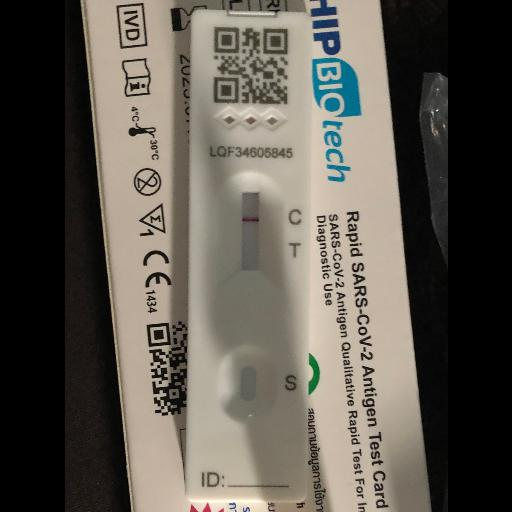Neg: (188, 11, 308, 495)
